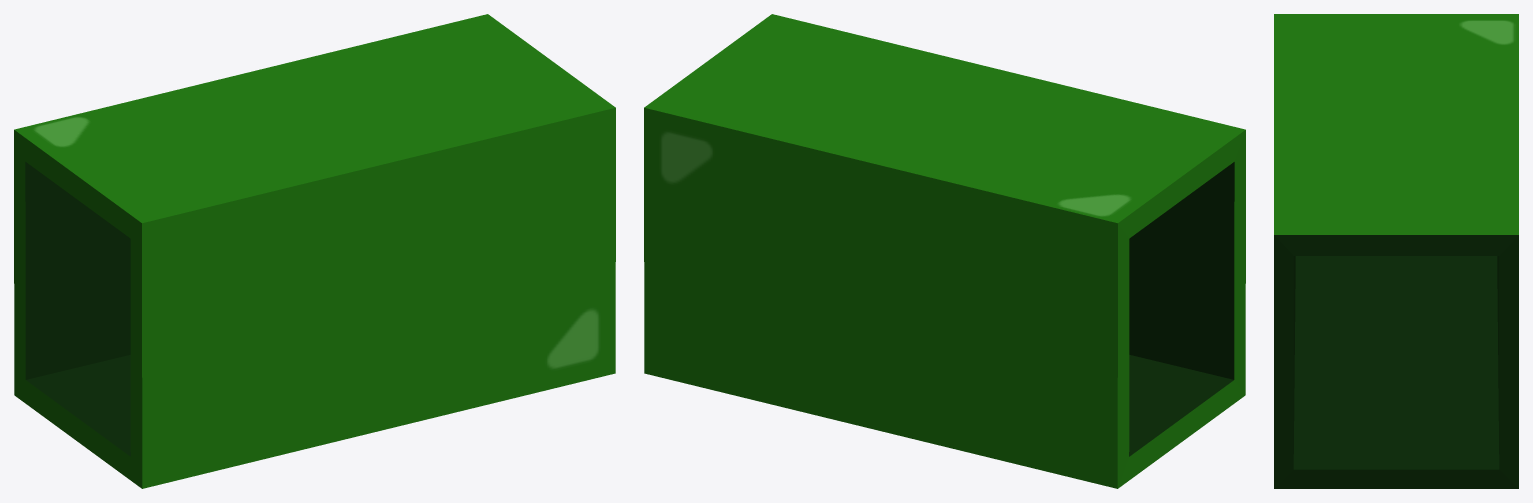
Rendered from mesh_CompostBin_v4.0.fbx.
3 renders of one model, left to right at view 1: azimuth 30°, elevation 25°; view 2: azimuth 150°, elevation 25°; view 3: azimuth 270°, elevation 25°, orthographic. The views are drawn at different scales.
Visible parts, largest first — view 1: CompostBinExtend1; view 2: CompostBinExtend1; view 3: CompostBinExtend1.
Part boxes in pixels (x1=…): CompostBinExtend1: x1=14, y1=14, x2=615, y2=488; CompostBinExtend1: x1=644, y1=14, x2=1245, y2=488; CompostBinExtend1: x1=1274, y1=14, x2=1518, y2=488.
Bounding box in the file's own units: 1.76 × 0.9435 × 0.8239.
